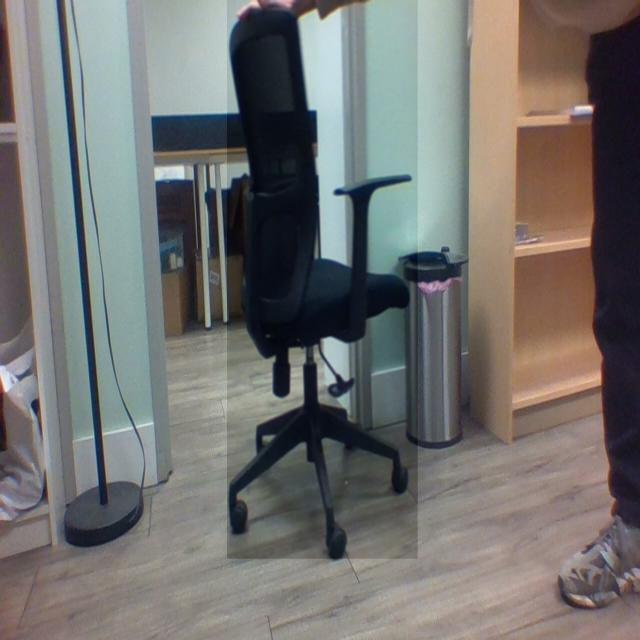chair: (227, 0, 419, 560)
